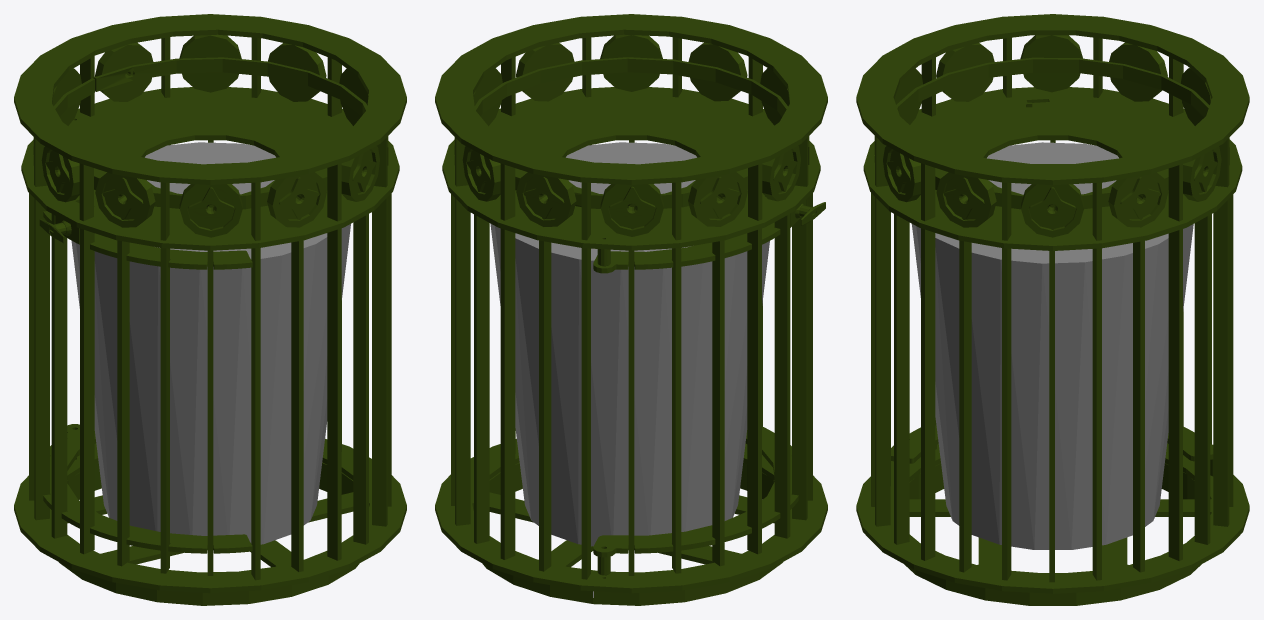
3 views of the same model, side by side, from view 1: azimuth 30°, elevation 25°; view 2: azimuth 150°, elevation 25°; view 3: azimuth 270°, elevation 25° (orthographic).
Parts seen in each view (by area): view 1: mesh170.002_mesh170-geometry, mesh20.002_mesh20-geometry, mesh28.002_mesh28-geometry, mesh3.002_mesh3-geometry, mesh1.015_mesh1-geometry, mesh38.002_mesh38-geometry, mesh1.014_mesh1-geometry, mesh168.009_mesh168-geometry, mesh63.002_mesh63-geometry, mesh58.002_mesh58-geometry, mesh62.002_mesh62-geometry, mesh168.008_mesh168-geometry (+23 smaller); view 2: mesh170.002_mesh170-geometry, mesh20.002_mesh20-geometry, mesh28.002_mesh28-geometry, mesh3.002_mesh3-geometry, mesh1.010_mesh1-geometry, mesh38.002_mesh38-geometry, mesh1.011_mesh1-geometry, mesh63.002_mesh63-geometry, mesh168.013_mesh168-geometry, mesh58.002_mesh58-geometry, mesh62.002_mesh62-geometry, mesh168.014_mesh168-geometry (+23 smaller); view 3: mesh170.002_mesh170-geometry, mesh20.002_mesh20-geometry, mesh28.002_mesh28-geometry, mesh3.002_mesh3-geometry, mesh1.010_mesh1-geometry, mesh1.014_mesh1-geometry, mesh1.011_mesh1-geometry, mesh38.002_mesh38-geometry, mesh1.015_mesh1-geometry, mesh168.013_mesh168-geometry, mesh168.009_mesh168-geometry, mesh168.010_mesh168-geometry (+20 smaller).
Part boxes in pixels (x1,y1,x2,y2): mesh170.002_mesh170-geometry: (71, 142, 350, 544); mesh20.002_mesh20-geometry: (21, 87, 399, 250); mesh28.002_mesh28-geometry: (14, 14, 406, 184); mesh3.002_mesh3-geometry: (14, 438, 406, 593); mesh1.015_mesh1-geometry: (327, 163, 341, 560); mesh38.002_mesh38-geometry: (53, 57, 367, 209); mesh1.014_mesh1-geometry: (372, 137, 387, 526); mesh168.009_mesh168-geometry: (353, 214, 368, 544); mesh63.002_mesh63-geometry: (51, 214, 67, 538); mesh58.002_mesh58-geometry: (34, 198, 49, 520); mesh62.002_mesh62-geometry: (80, 228, 94, 554); mesh168.008_mesh168-geometry: (291, 240, 303, 571); mesh170.002_mesh170-geometry: (490, 142, 769, 546); mesh20.002_mesh20-geometry: (442, 87, 820, 250); mesh28.002_mesh28-geometry: (435, 14, 827, 184); mesh3.002_mesh3-geometry: (435, 439, 827, 593); mesh1.010_mesh1-geometry: (500, 163, 515, 559); mesh38.002_mesh38-geometry: (474, 57, 788, 208); mesh1.011_mesh1-geometry: (455, 137, 470, 525); mesh63.002_mesh63-geometry: (774, 214, 790, 538); mesh168.013_mesh168-geometry: (474, 214, 489, 543); mesh58.002_mesh58-geometry: (747, 228, 761, 554); mesh62.002_mesh62-geometry: (792, 198, 807, 520); mesh168.014_mesh168-geometry: (539, 240, 551, 571); mesh170.002_mesh170-geometry: (911, 142, 1193, 549); mesh20.002_mesh20-geometry: (863, 87, 1242, 250); mesh28.002_mesh28-geometry: (856, 14, 1249, 185); mesh3.002_mesh3-geometry: (856, 443, 1249, 593); mesh1.010_mesh1-geometry: (1213, 138, 1229, 526); mesh1.014_mesh1-geometry: (921, 163, 935, 560); mesh1.011_mesh1-geometry: (1168, 164, 1182, 560); mesh38.002_mesh38-geometry: (896, 57, 1209, 209); mesh1.015_mesh1-geometry: (875, 136, 890, 526); mesh168.013_mesh168-geometry: (1194, 215, 1210, 544); mesh168.009_mesh168-geometry: (894, 214, 909, 544); mesh168.010_mesh168-geometry: (959, 240, 971, 572).
Size of the model in its own units: 0.5335 by 0.6575 by 0.532.
